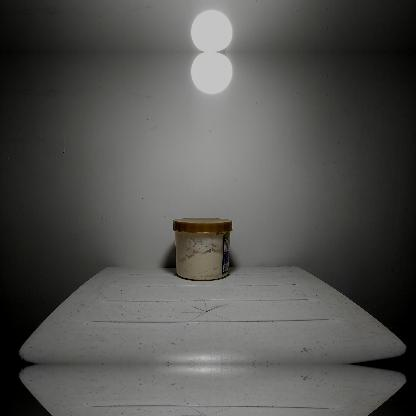Lady-s-Choice: (172, 218, 232, 280)
